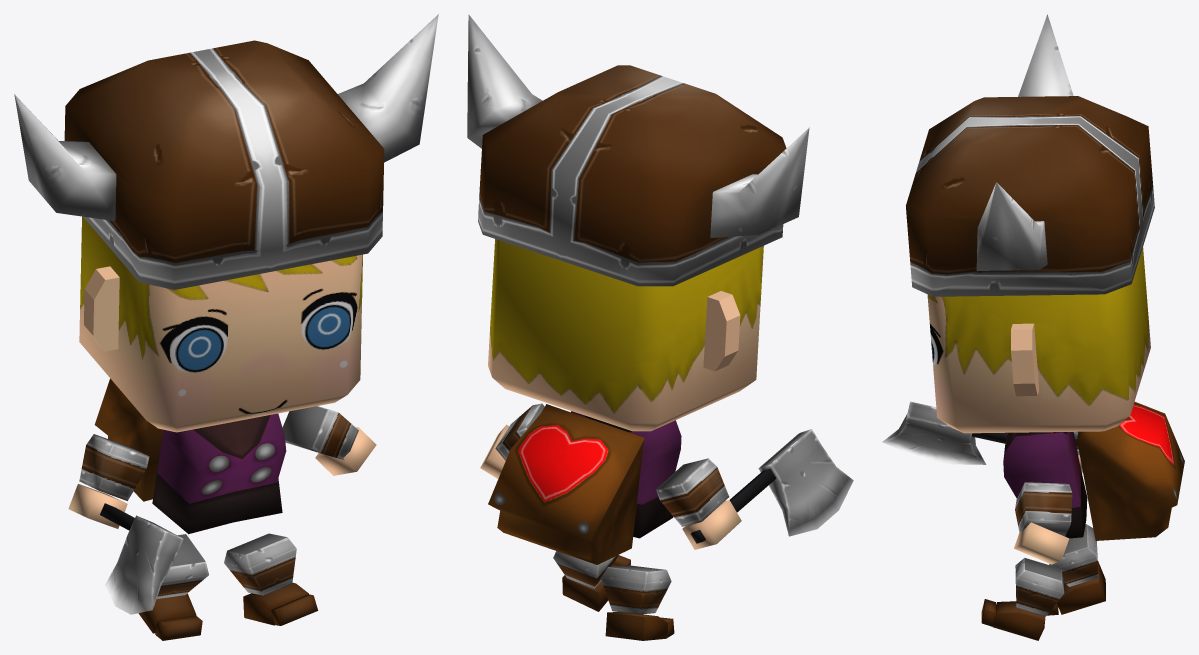
The model's file is mini_knight_fem_000002.obj.
3 renders of one model, left to right at view 1: azimuth 30°, elevation 25°; view 2: azimuth 150°, elevation 25°; view 3: azimuth 270°, elevation 25°, orthographic. The views are drawn at different scales.
Visible parts, largest first — view 1: cap_Object01, Mesh_objheadusOBJexport, axe_Object02, back_Object03; view 2: cap_Object01, Mesh_objheadusOBJexport, back_Object03, axe_Object02; view 3: cap_Object01, Mesh_objheadusOBJexport, back_Object03, axe_Object02.
Part boxes in pixels (x1=…): cap_Object01: x1=14, y1=14, x2=438, y2=289; Mesh_objheadusOBJexport: x1=68, y1=216, x2=376, y2=640; axe_Object02: x1=100, y1=503, x2=183, y2=614; back_Object03: x1=94, y1=378, x2=162, y2=501; cap_Object01: x1=467, y1=14, x2=809, y2=286; Mesh_objheadusOBJexport: x1=480, y1=239, x2=763, y2=640; back_Object03: x1=488, y1=404, x2=644, y2=564; axe_Object02: x1=691, y1=429, x2=853, y2=543; cap_Object01: x1=906, y1=14, x2=1154, y2=296; Mesh_objheadusOBJexport: x1=927, y1=247, x2=1150, y2=640; back_Object03: x1=1077, y1=402, x2=1184, y2=540; axe_Object02: x1=882, y1=401, x2=1006, y2=464.
Size of the model in its own units: 1.83 by 2.61 by 1.36.
